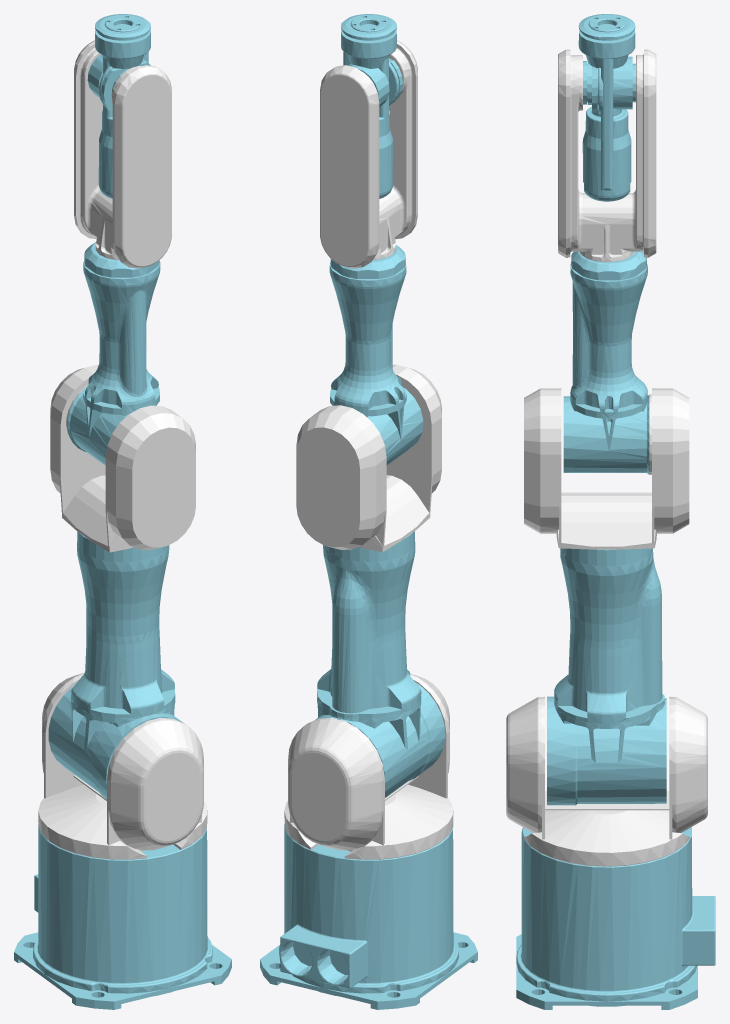
File: mitsubishi-pa10.dae
3 views of the same model, side by side, from view 1: azimuth 30°, elevation 25°; view 2: azimuth 150°, elevation 25°; view 3: azimuth 270°, elevation 25° (orthographic).
Parts seen in each view (by area): view 1: link0, link2, link1, link3, link5, link4, link6, link7; view 2: link0, link2, link3, link1, link5, link4, link6, link7; view 3: link0, link2, link1, link3, link4, link5, link6, link7.
Boxes of the visible parts, x1=… form: link0: x1=14, y1=824, x2=231, y2=1009; link2: x1=48, y1=531, x2=182, y2=799; link1: x1=38, y1=672, x2=207, y2=859; link3: x1=50, y1=365, x2=195, y2=552; link5: x1=74, y1=40, x2=171, y2=268; link4: x1=67, y1=242, x2=160, y2=465; link6: x1=87, y1=30, x2=150, y2=198; link7: x1=95, y1=14, x2=150, y2=40; link0: x1=260, y1=824, x2=477, y2=1009; link2: x1=315, y1=531, x2=445, y2=797; link3: x1=296, y1=364, x2=441, y2=552; link1: x1=284, y1=673, x2=453, y2=859; link5: x1=320, y1=40, x2=417, y2=268; link4: x1=329, y1=245, x2=423, y2=465; link6: x1=341, y1=30, x2=402, y2=198; link7: x1=341, y1=14, x2=396, y2=40; link0: x1=516, y1=827, x2=715, y2=1009; link2: x1=547, y1=548, x2=666, y2=805; link1: x1=506, y1=696, x2=707, y2=866; link3: x1=524, y1=388, x2=689, y2=549; link4: x1=563, y1=251, x2=649, y2=474; link5: x1=558, y1=49, x2=656, y2=262; link6: x1=578, y1=30, x2=635, y2=201; link7: x1=578, y1=14, x2=635, y2=40.
Bounding box in the file's own units: 0.234 × 0.27 × 1.35.
